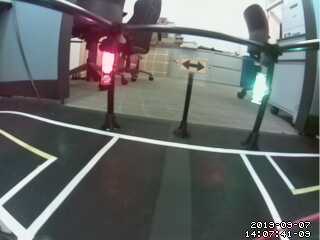Left_Right_sign: (180, 54, 211, 75)
Traffic_light_green: (256, 69, 271, 105)
Traffic_light_red: (102, 49, 113, 90)
